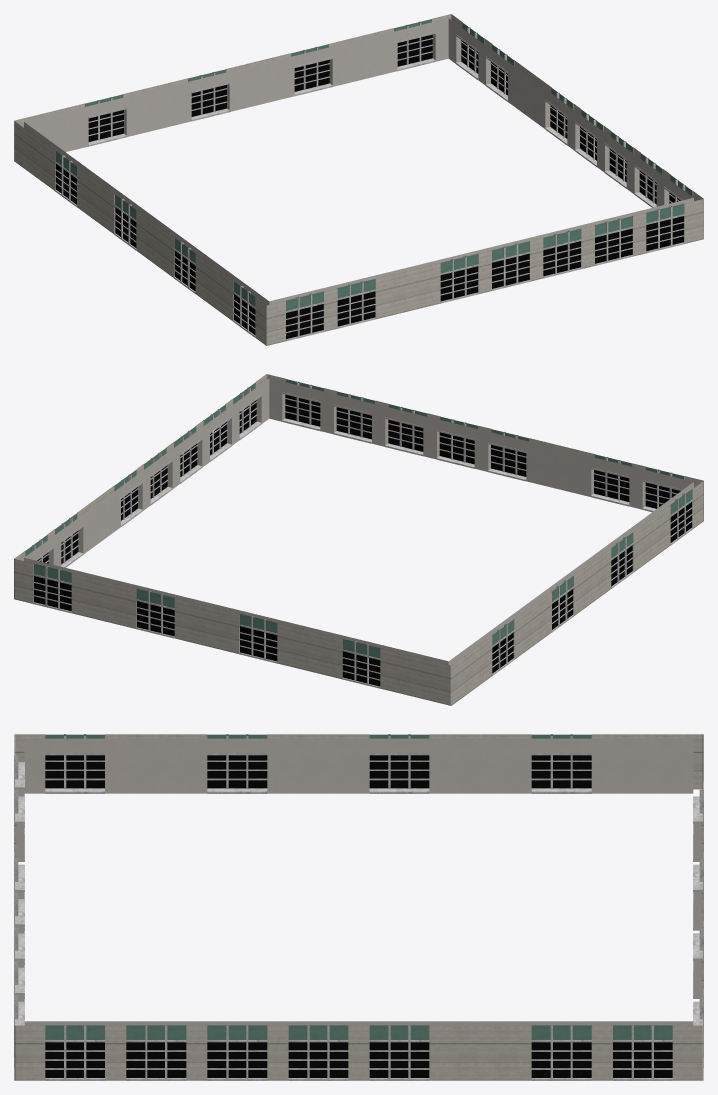
The model's file is BuildingD_Mid_VarB.fbx.
3 views of the same model, one above another, from view 1: azimuth 30°, elevation 25°; view 2: azimuth 150°, elevation 25°; view 3: azimuth 270°, elevation 25° (orthographic). The views are drawn at different scales.
Visible parts, largest first — view 1: BuildingD_Mid_VarB; view 2: BuildingD_Mid_VarB; view 3: BuildingD_Mid_VarB.
Part boxes in pixels (<box>): BuildingD_Mid_VarB: <box>14,14,703,345</box>; BuildingD_Mid_VarB: <box>14,374,703,705</box>; BuildingD_Mid_VarB: <box>14,734,703,1080</box>.
Bounding box in the file's own units: 3404 × 300 × 3404.
